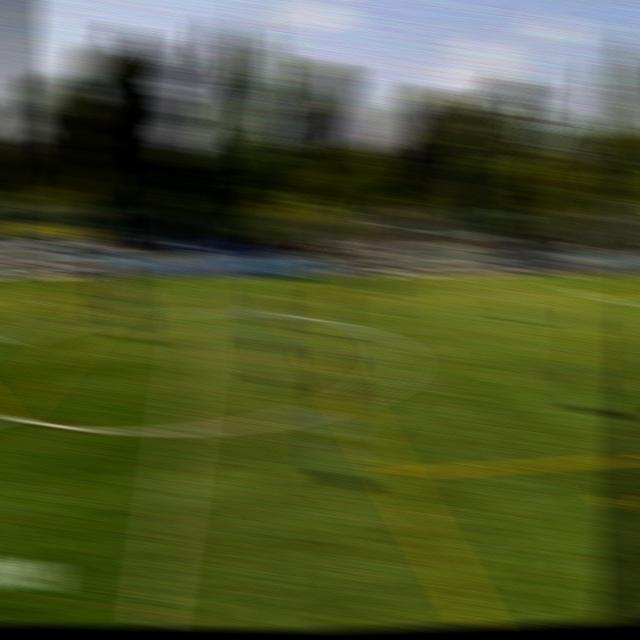bigarea_top_inner: (536, 276, 567, 291)
halfcircle_bottom: (161, 412, 201, 446)
halfcircle_top: (181, 301, 215, 326)
midline_top_intersection: (190, 269, 219, 284)
